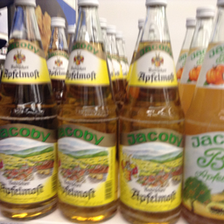juice: (116, 1, 182, 224), (57, 1, 118, 223), (1, 1, 57, 220)
